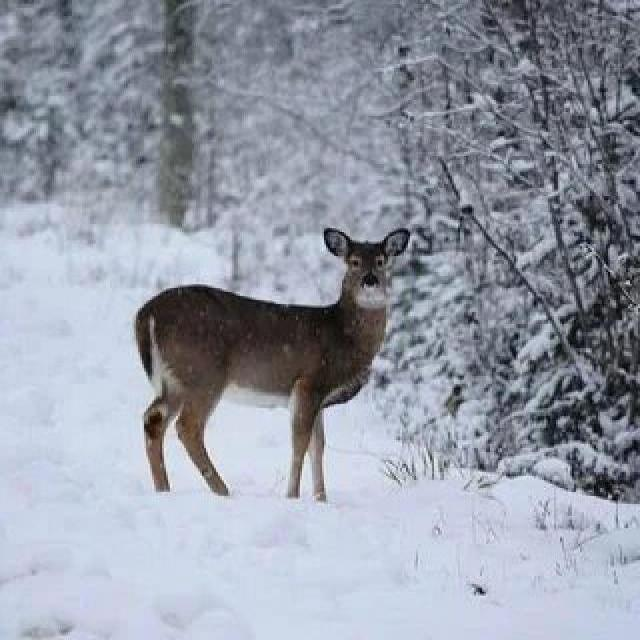deer: (95, 179, 425, 505)
